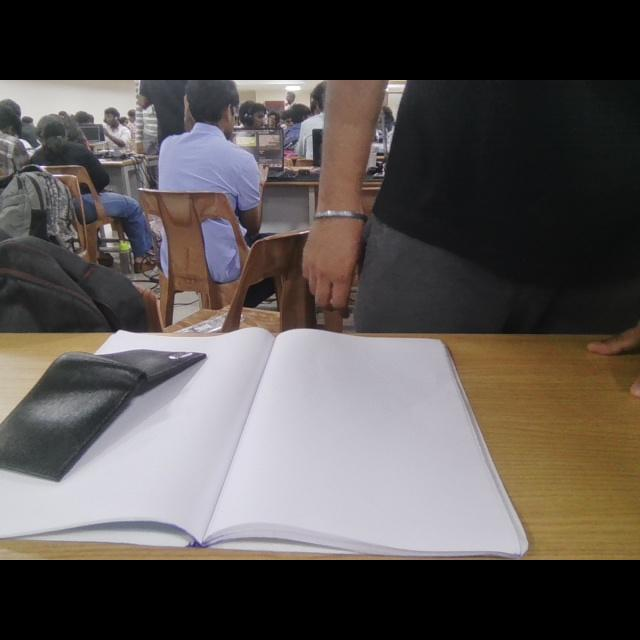wallet: (11, 327, 216, 498)
